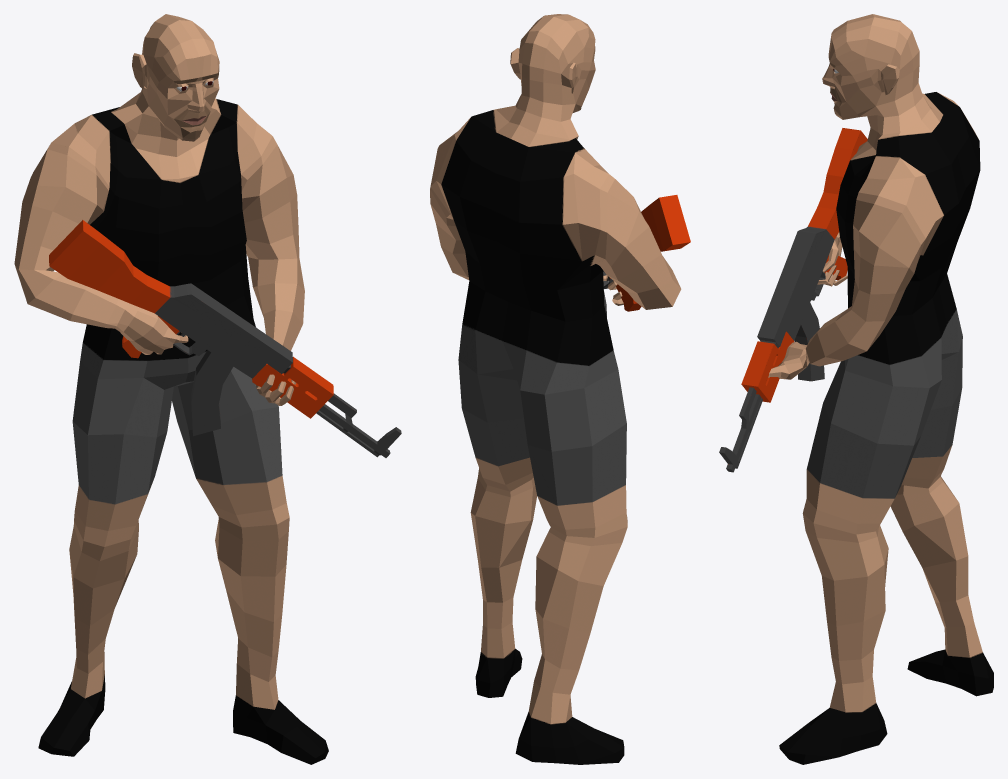
File: PlayerIdle(54).obj
3 views of the same model, side by side, from view 1: azimuth 30°, elevation 25°; view 2: azimuth 150°, elevation 25°; view 3: azimuth 270°, elevation 25° (orthographic). The views are drawn at different scales.
Visible parts, largest first — view 1: Plane002, Object001; view 2: Plane002, Object001; view 3: Plane002, Object001.
Boxes of the visible parts, left/top/right/bottom form: Plane002: left=14, top=14, right=328, bottom=764; Object001: left=49, top=220, right=401, bottom=457; Plane002: left=430, top=14, right=681, bottom=764; Object001: left=603, top=195, right=690, bottom=317; Plane002: left=768, top=14, right=993, bottom=764; Object001: left=719, top=128, right=867, bottom=472.
Bounding box in the file's own units: 738 × 1802 × 645.
